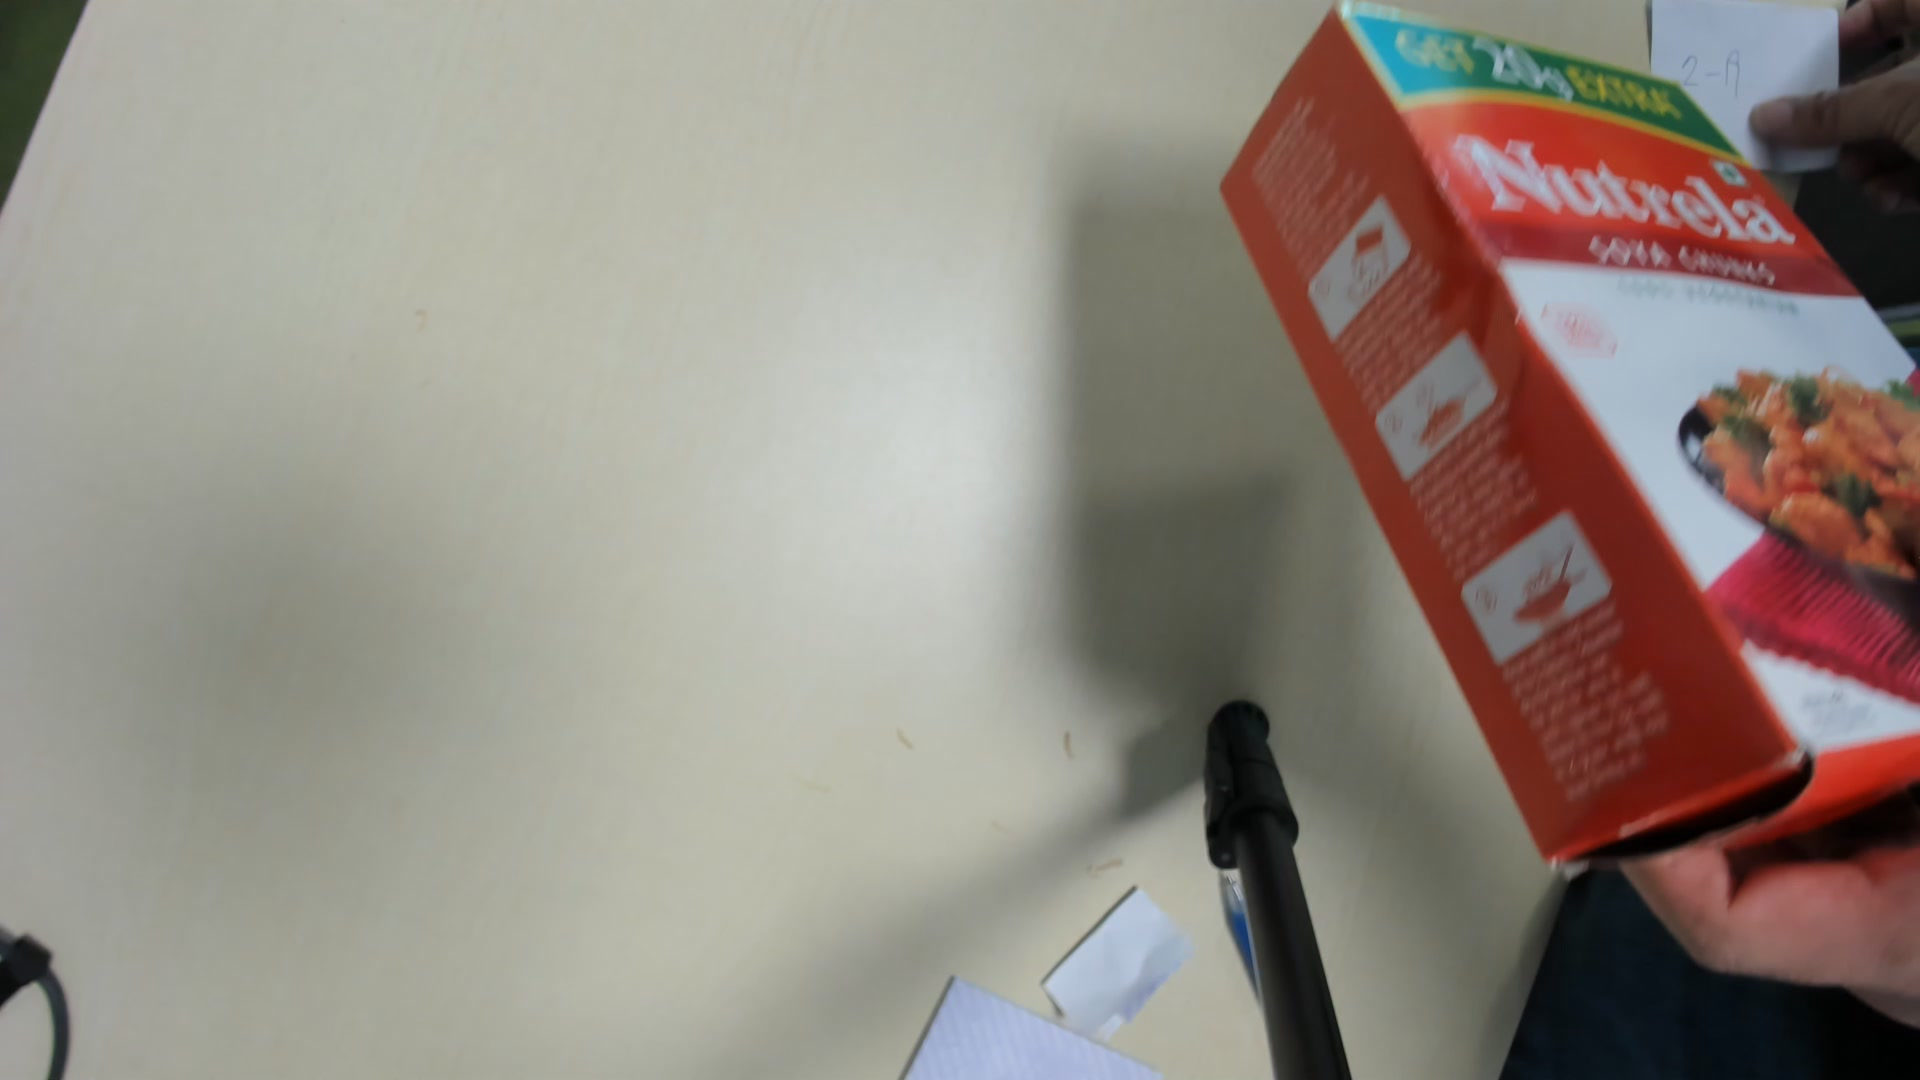InstantMeals_200_299g_NonHalal_NonHealthy: (1226, 9, 1915, 881)
